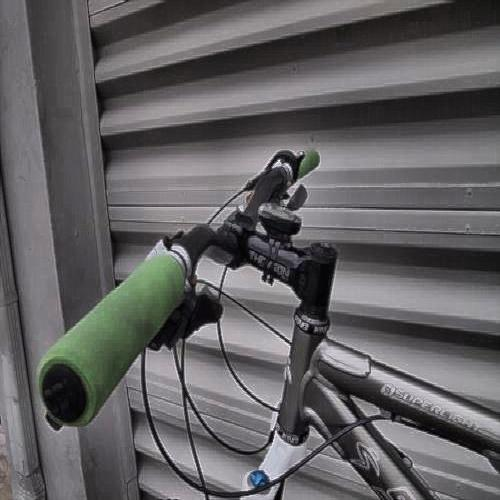bicycle: (63, 128, 465, 476)
